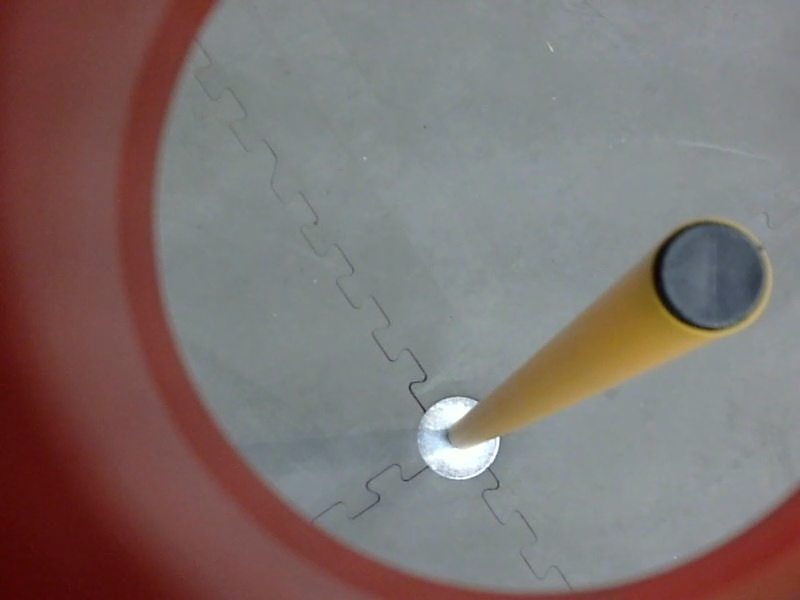tip: (641, 212, 779, 346)
